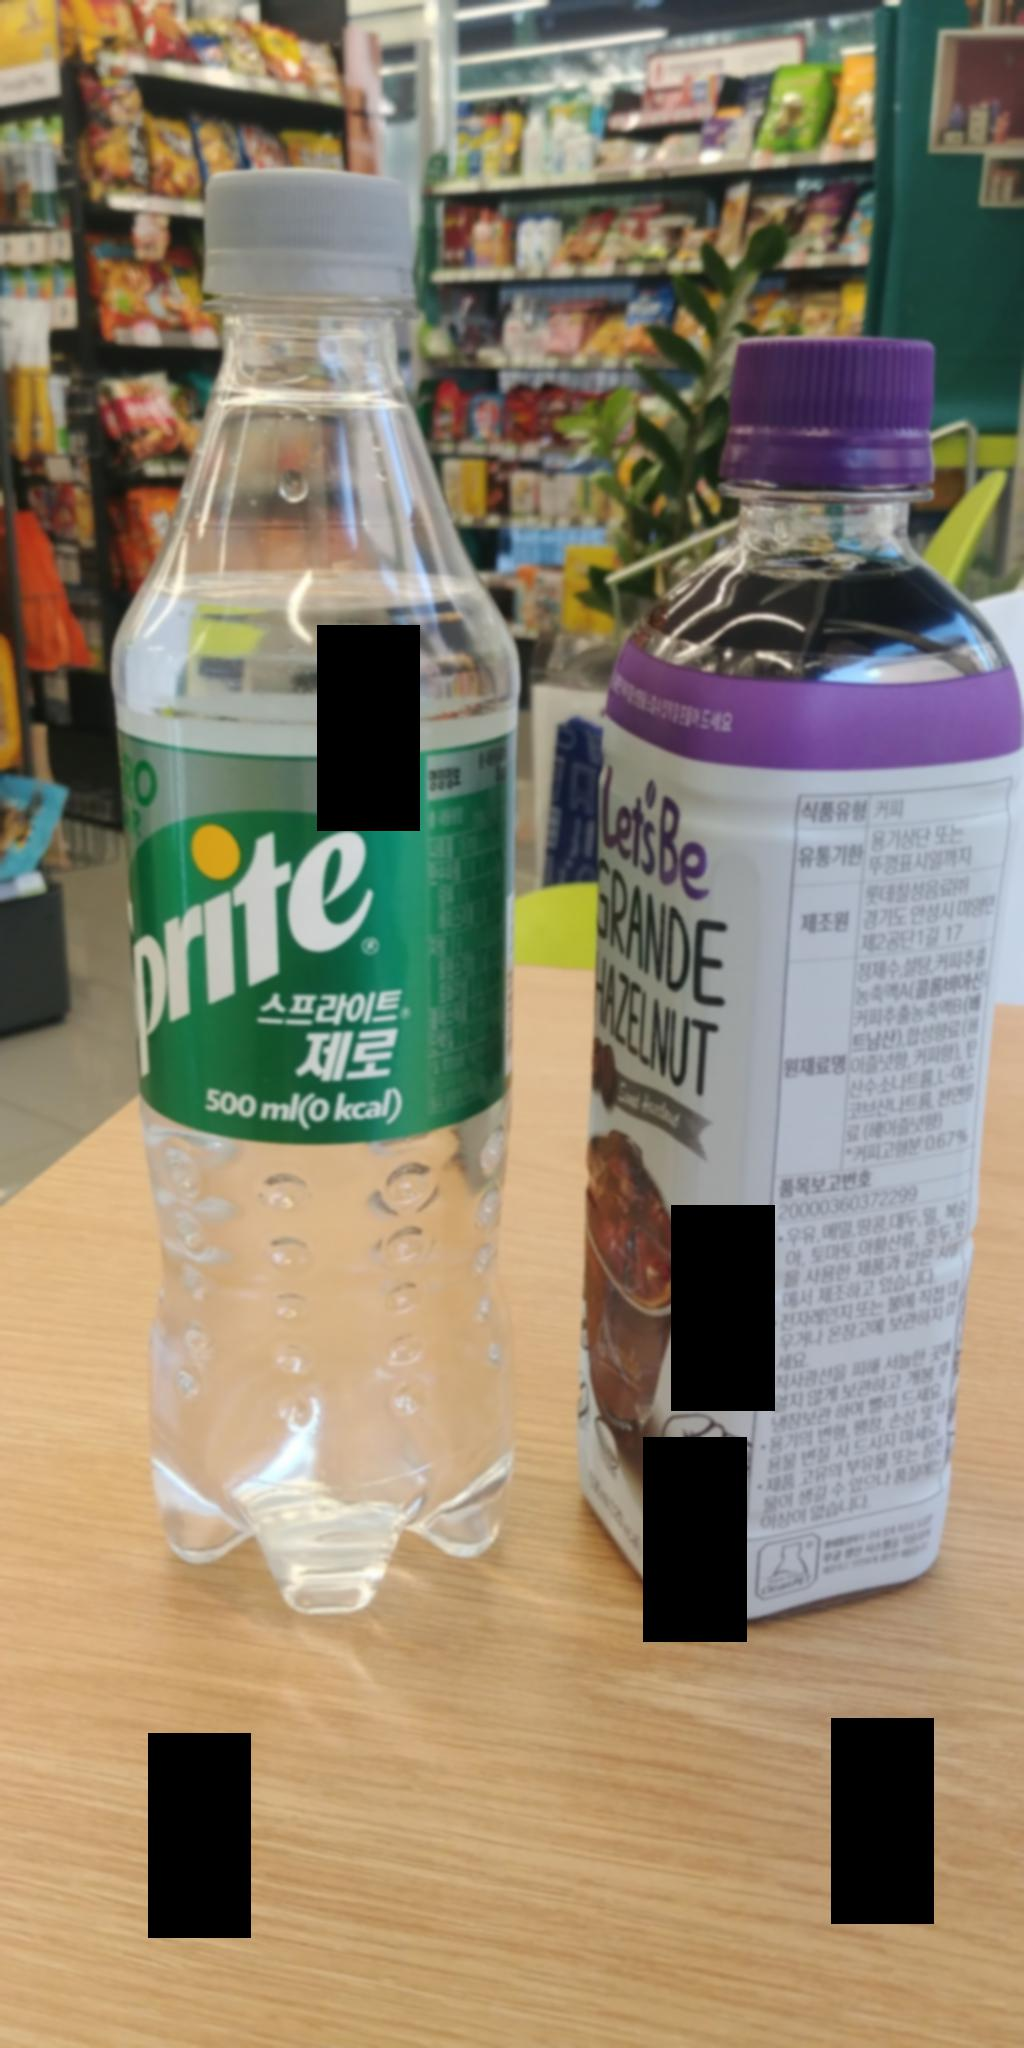letsbe_grande_hazelnut: (558, 325, 998, 1640)
sprite_zero: (80, 148, 524, 1643)
